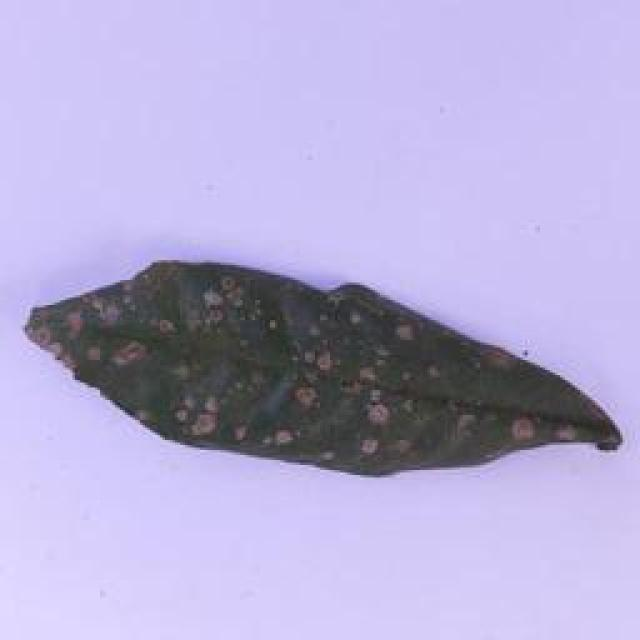Algal Leaf Spot: (24, 254, 625, 480)
